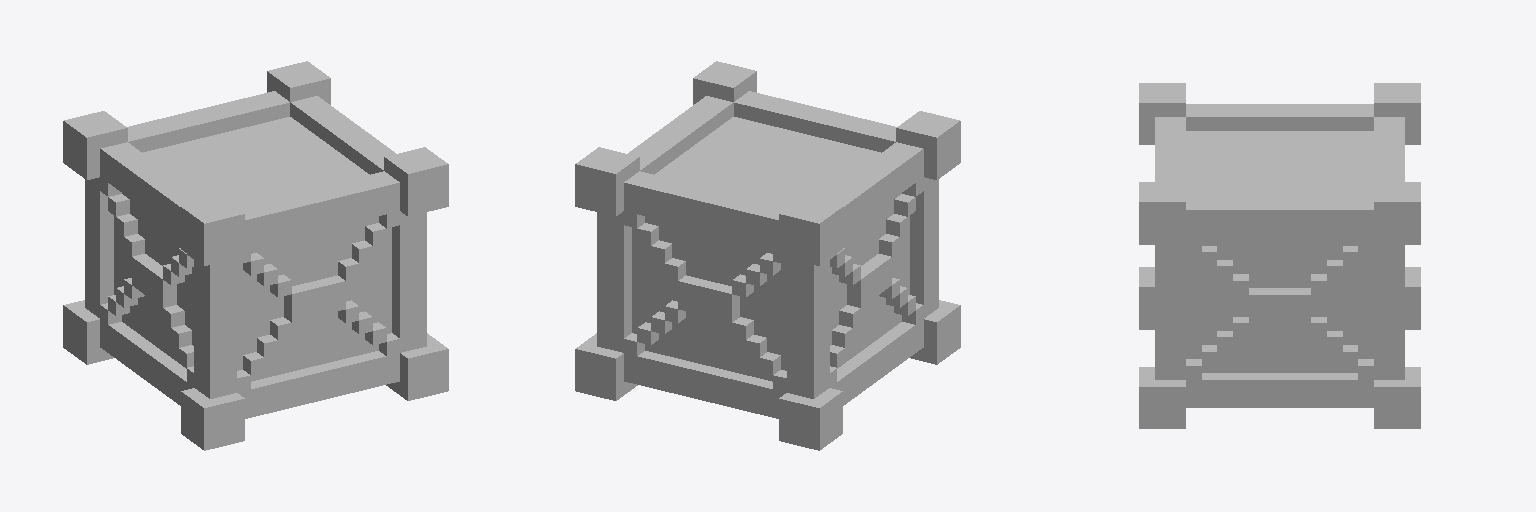
Rendered from WoodenBox.obj.
3 views of the same model, side by side, from view 1: azimuth 30°, elevation 25°; view 2: azimuth 150°, elevation 25°; view 3: azimuth 270°, elevation 25° (orthographic).
Visible parts, largest first — view 1: object 1; view 2: object 1; view 3: object 1.
Boxes of the visible parts, x1,y1,x2,y2 form: object 1: [63, 61, 448, 450]; object 1: [575, 61, 960, 450]; object 1: [1139, 83, 1420, 428].
Size of the model in its own units: 1.8 by 1.6 by 1.8.